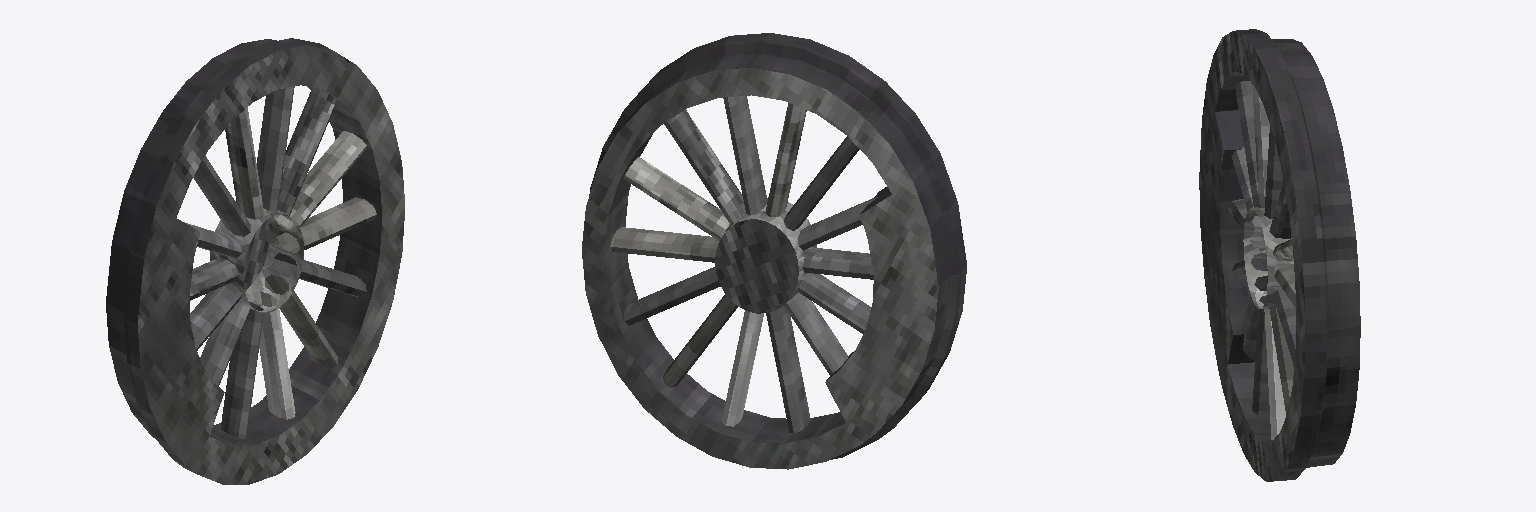
3 views of the same model, side by side, from view 1: azimuth 30°, elevation 25°; view 2: azimuth 150°, elevation 25°; view 3: azimuth 270°, elevation 25° (orthographic).
Parts seen in each view (by area): view 1: LlantaIzq3; view 2: LlantaIzq3; view 3: LlantaIzq3.
Boxes of the visible parts, x1=… form: LlantaIzq3: x1=106, y1=38, x2=404, y2=484; LlantaIzq3: x1=582, y1=33, x2=966, y2=469; LlantaIzq3: x1=1199, y1=29, x2=1360, y2=481.
Size of the model in its own units: 0.3157 by 0.3939 by 0.1362.
Materials: 1 (1 with a texture image).